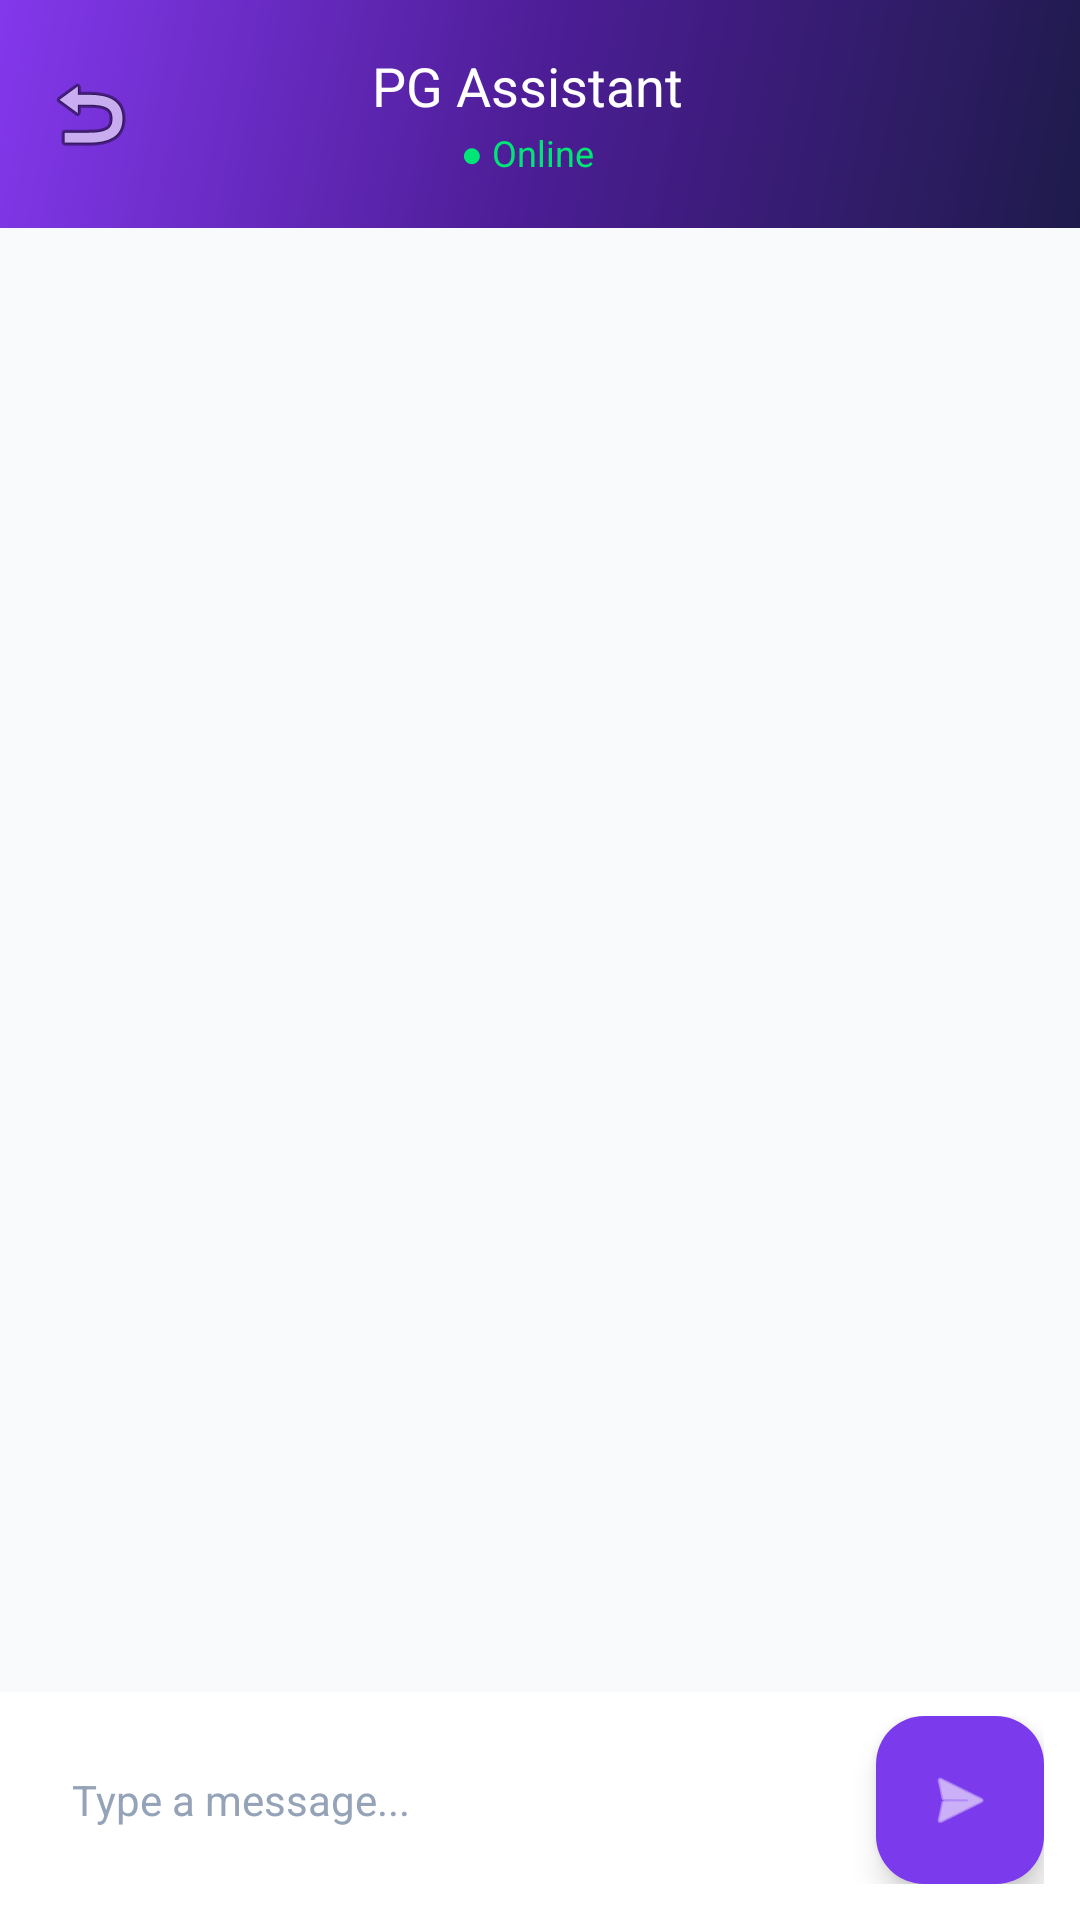

Point at icon controls on the screen. Image size 1080 × 1920, points as (x,y).
Back: (91,114)
send: (960,1800)
